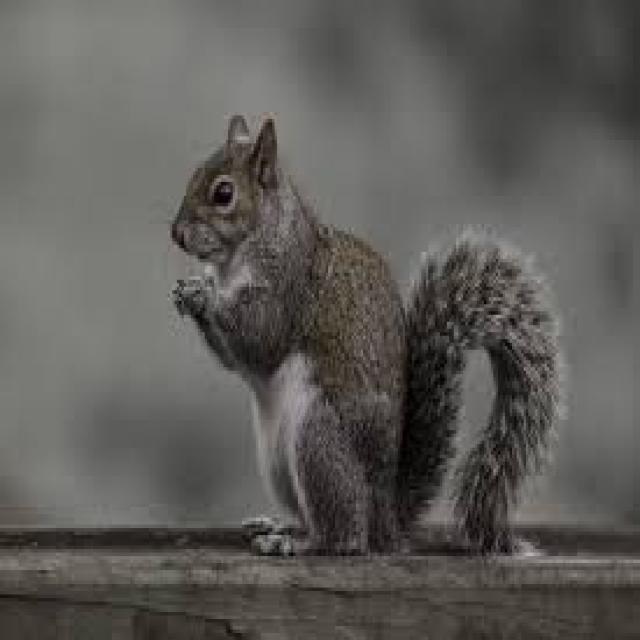Squirrel: (165, 118, 567, 578)
